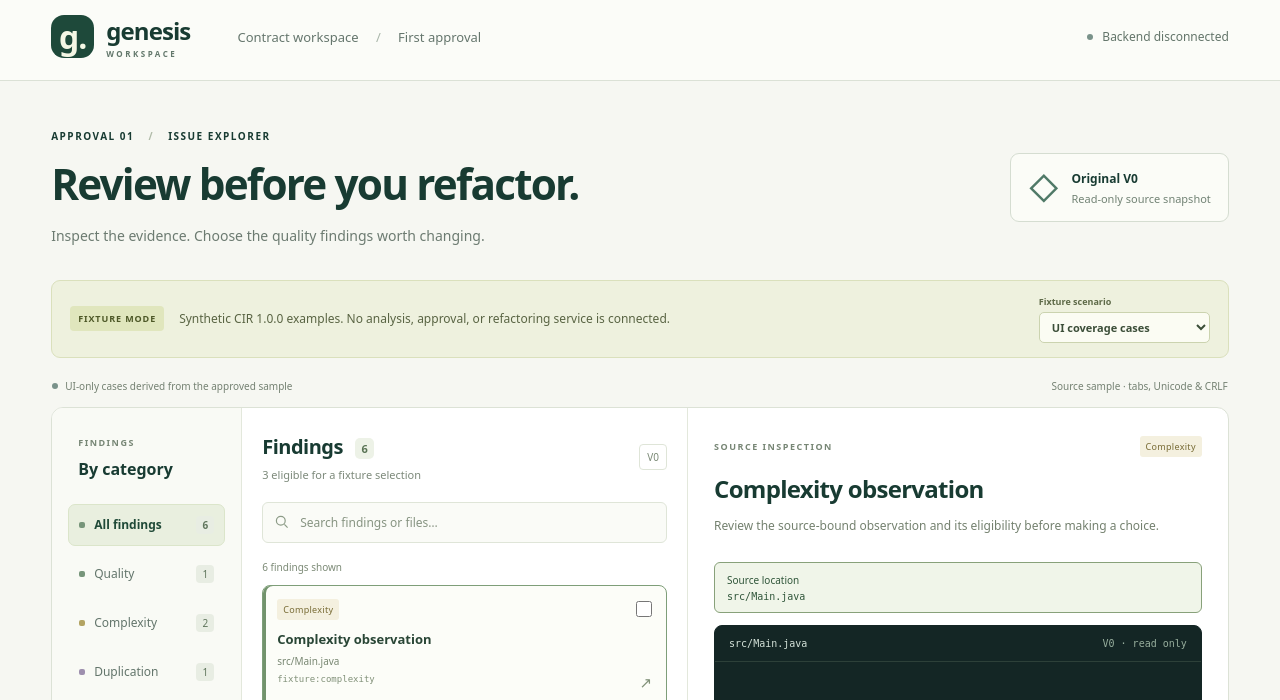
Test: first approval fixture UI › renders the approved stale-selection error, drops prior choices and recovers
Later steps or results of the test are not shown.
Step 1. Click the checkbox named "Select fixture:complexity" → (644, 610), box x1=636 y1=602 x2=652 y2=618
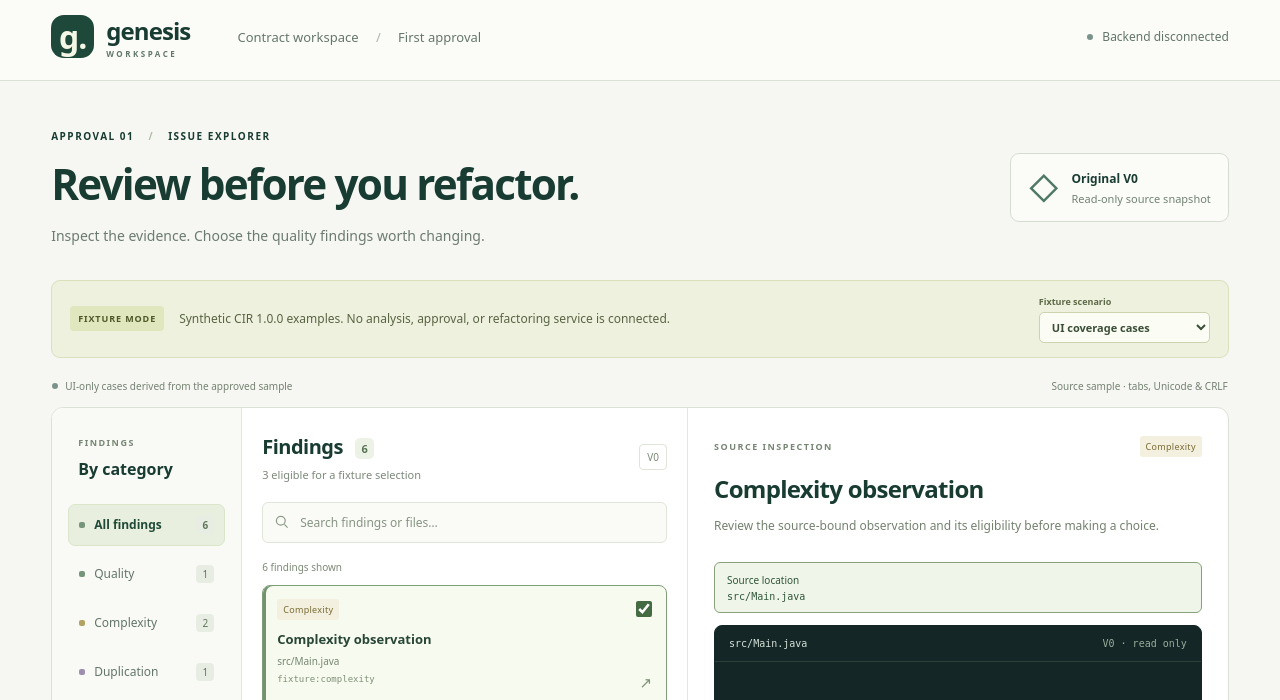
Step 2. Select "Stale-selection error" in the dropdown labelled "Fixture scenario" → (1124, 328), box x1=1039 y1=312 x2=1210 y2=343
(page scrolled)
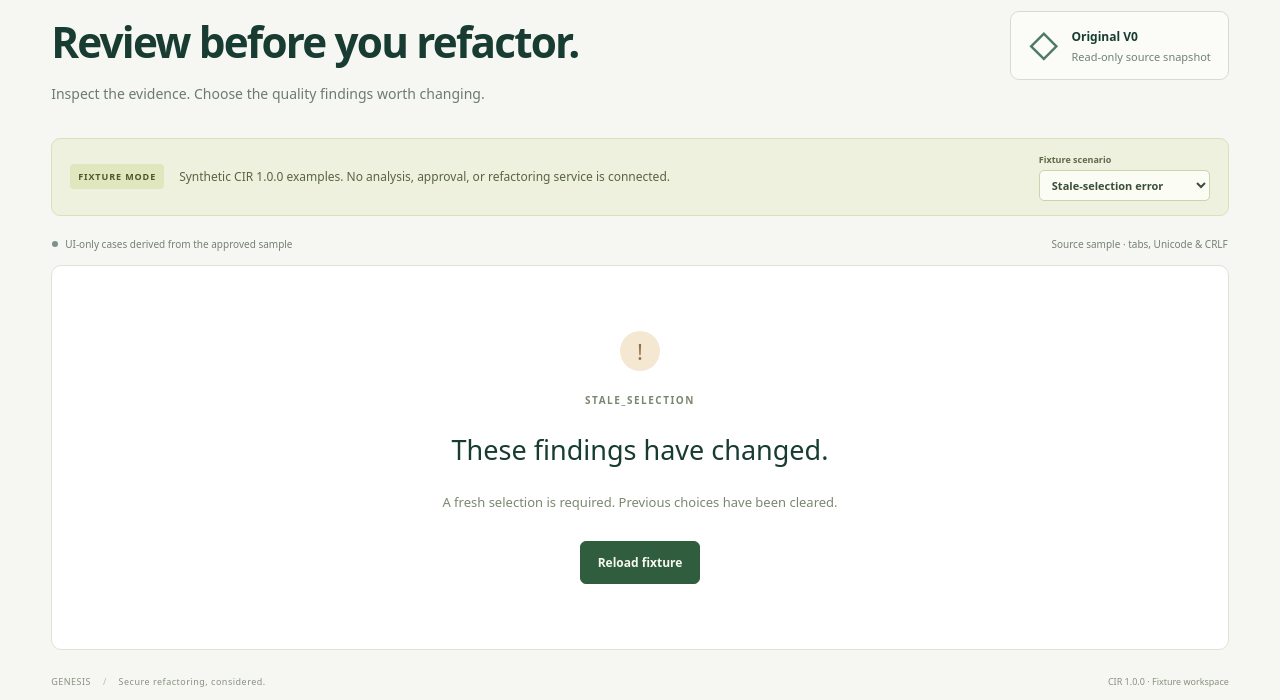
Result: the message shows "STALE_SELECTION" at x1=585 y1=393 x2=695 y2=407
Result: no checkboxes are shown
